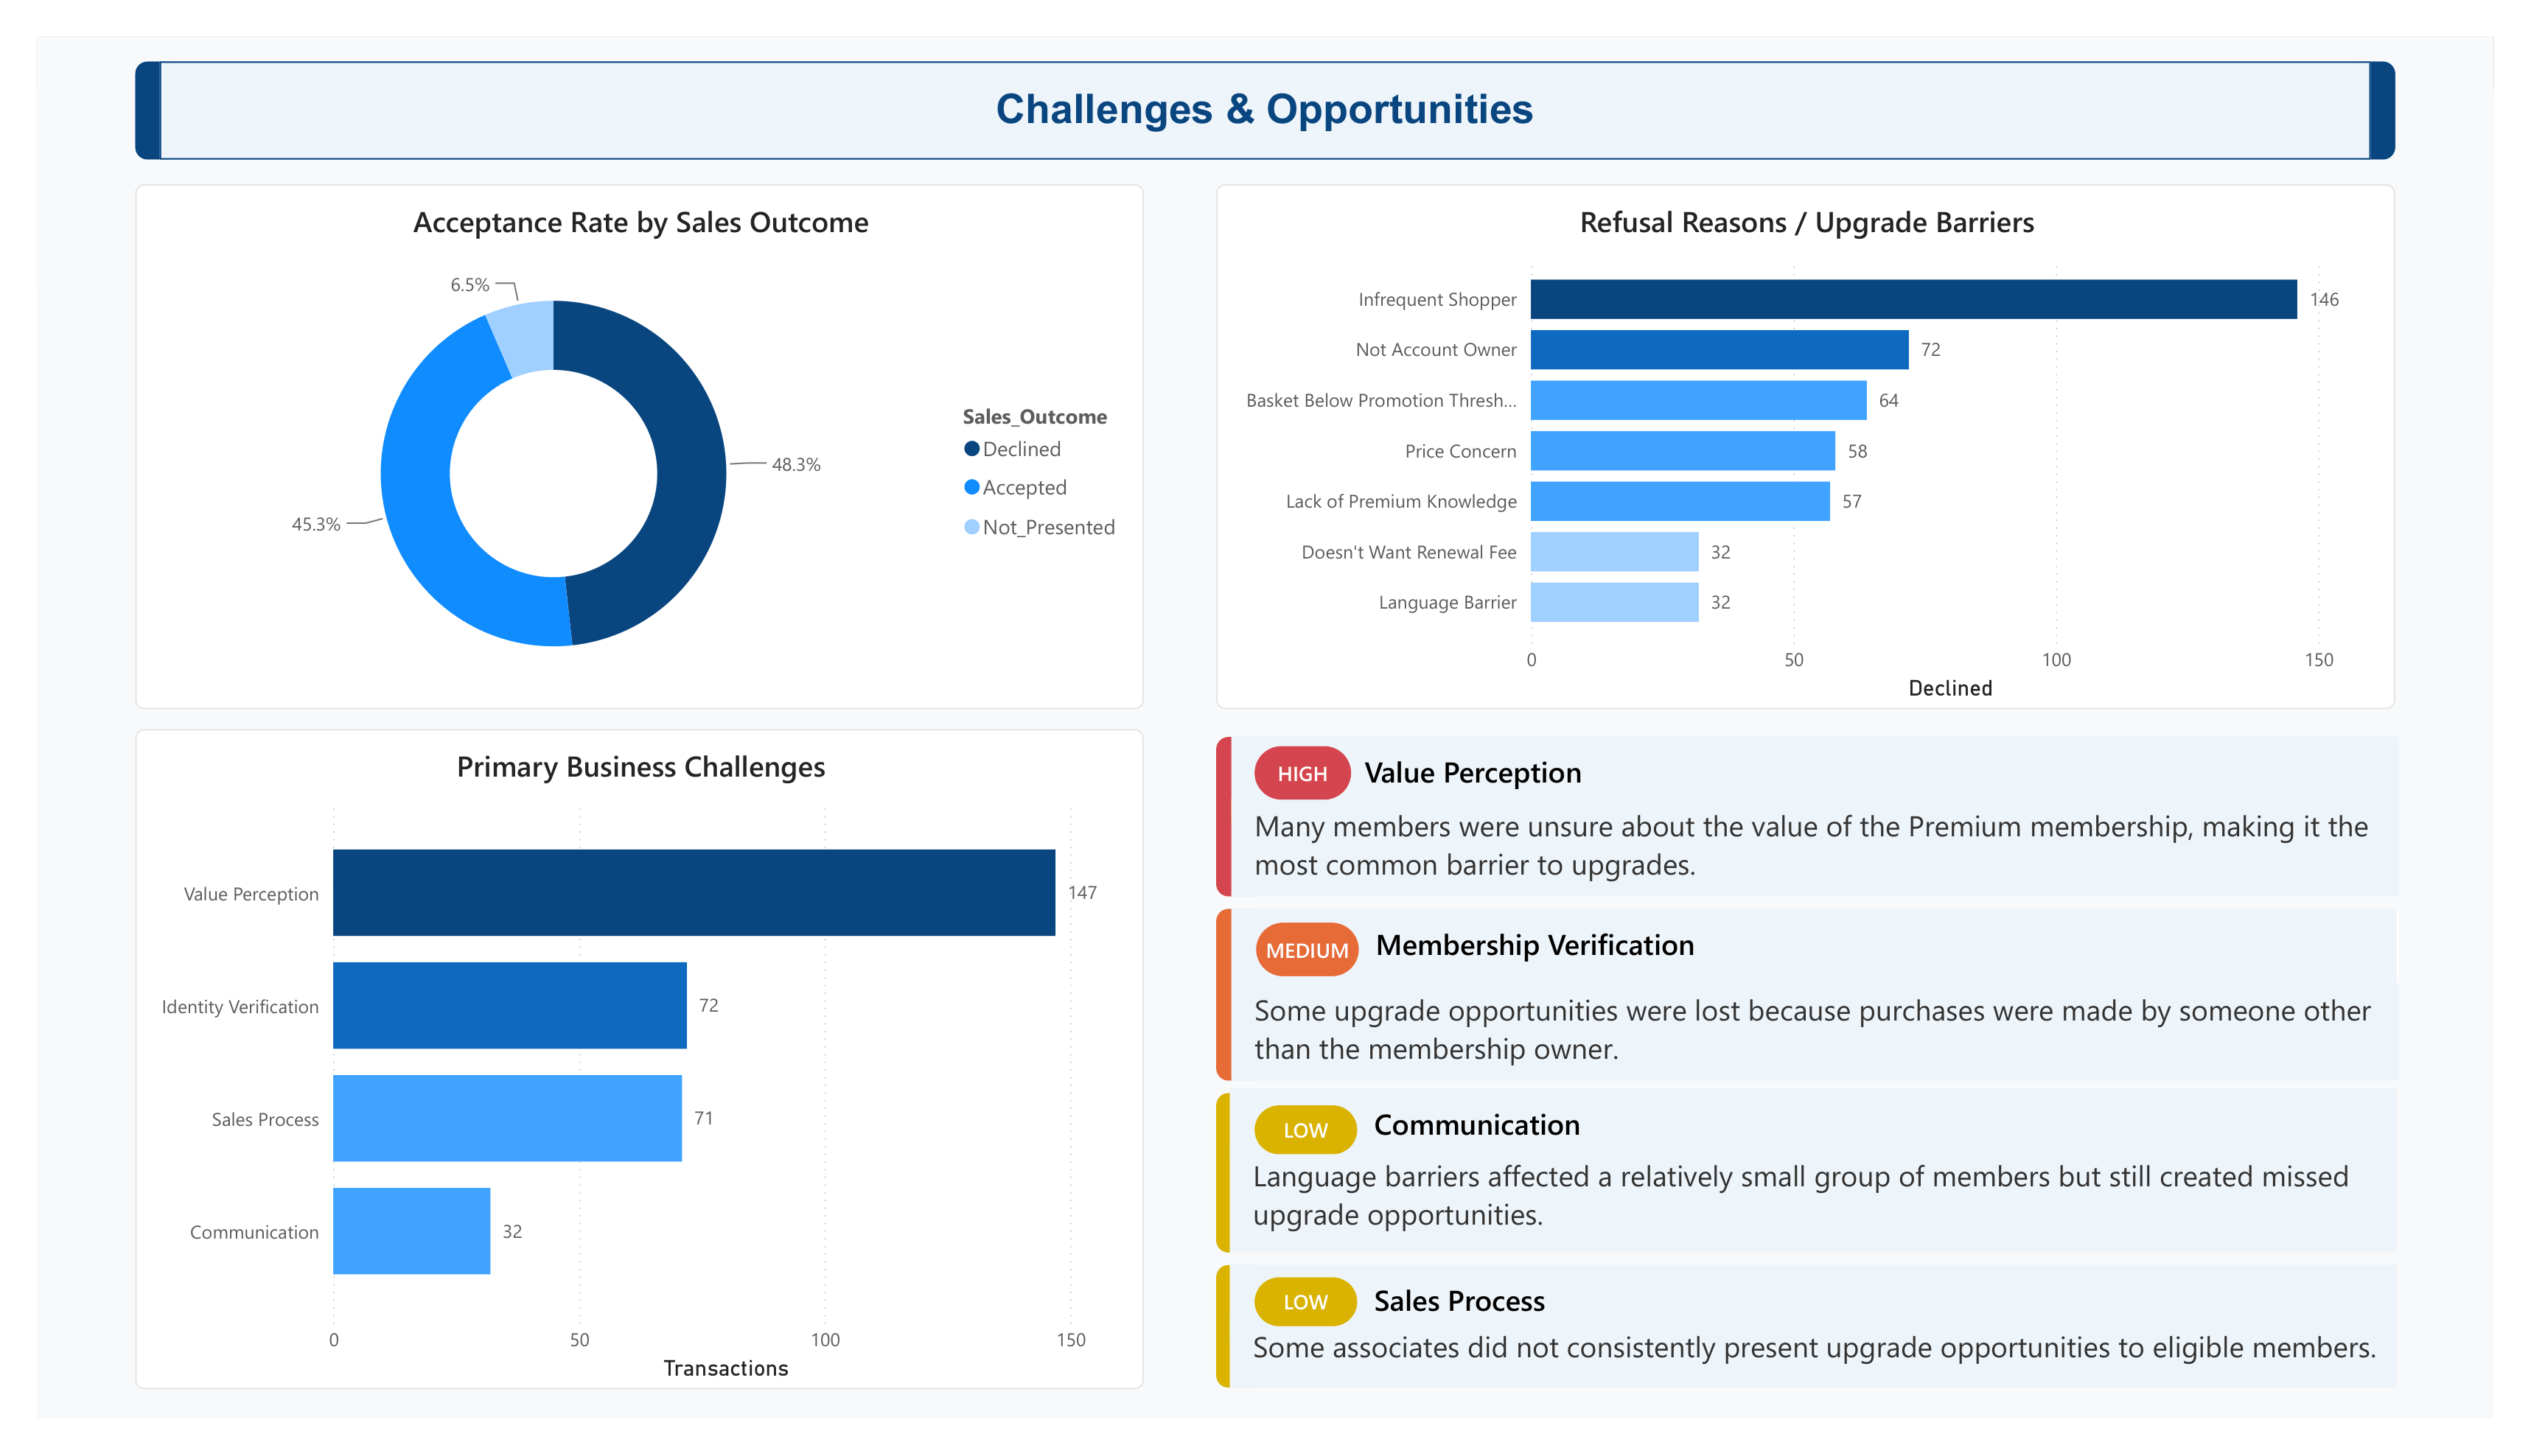

Layout of this report page (visuals, bound fields, positions):
{"tool":"powerbi","page":{"name":"Challenges & Opportunities","canvas":[1600,900],"ordinal":1},"visuals":[{"type":"shape","box":[64,16,32,64],"z":0},{"type":"shape","box":[768,456,32,104],"z":0,"group":"g1"},{"type":"shape","box":[768,568,32,112],"z":0,"group":"g2"},{"type":"shape","box":[768,688,32,104],"z":0,"group":"g5"},{"type":"shape","box":[768,800,32,80],"z":0,"group":"g8"},{"type":"shape","box":[1504,16,32,64],"z":1000},{"type":"textbox","box":[80,16,1440,64],"z":2000},{"type":"donutChart","title":"Acceptance Rate by Sales Outcome","fields":{"Category":["Transaction.Sales_Outcome"],"Y":["Measure_Table.Transactions"]},"box":[64,96,656.6,341.8],"z":3000},{"type":"textbox","box":[778,456,760,56],"z":3000,"group":"g3"},{"type":"textbox","box":[778.1,568,758.9,48.4],"z":3000,"group":"g4"},{"type":"textbox","box":[777,685.1,760,42.5],"z":3000,"group":"g6"},{"type":"textbox","box":[777.1,800,760,48],"z":3000,"group":"g7"},{"type":"textbox","box":[778,496,760,64],"z":3500,"group":"g3"},{"type":"textbox","box":[778.1,616,760,64],"z":3500,"group":"g4"},{"type":"textbox","box":[777,723.6,760,68.6],"z":3500,"group":"g6"},{"type":"textbox","box":[777,834.5,760,45.5],"z":3500,"group":"g7"},{"type":"clusteredBarChart","title":"Refusal Reasons / Upgrade Barriers","fields":{"Category":["Transaction.Refusal_Reason"],"Y":["Measure_Table.Declined"]},"box":[768,96,768,341.8],"z":4000},{"type":"clusteredBarChart","title":"Primary Business Challenges","fields":{"Category":["Transaction.Challenge Category"],"Y":["Measure_Table.Transactions"]},"box":[64,450.6,656.6,430.1],"z":5000},{"type":"shape","box":[793.3,462.4,62.5,34.4],"z":5000,"group":"g3"},{"type":"shape","box":[793.6,576.6,67.2,35.6],"z":5000,"group":"g4"},{"type":"shape","box":[792.7,695.7,67.2,32.1],"z":5000,"group":"g6"},{"type":"shape","box":[792.6,807.7,67.2,32.1],"z":5000,"group":"g7"},{"type":"group","id":"g1","title":"value perception","box":[768,456,770,104],"z":7000},{"type":"group","id":"g2","title":"membership verification","box":[768,568,770.1,112],"z":8000},{"type":"group","id":"g3","title":"Group 1","box":[778,456,760,104],"z":9000,"group":"g1"},{"type":"group","id":"g4","title":"Group 1","box":[778.1,568,760,112],"z":9000,"group":"g2"},{"type":"group","id":"g5","title":"membership verification","box":[768,685.1,769,107.1],"z":9000},{"type":"group","id":"g6","title":"Group 1","box":[777,685.1,760,107.1],"z":9000,"group":"g5"},{"type":"group","id":"g7","title":"Group 1","box":[777,800,760.1,80],"z":9000,"group":"g8"},{"type":"group","id":"g8","title":"membership verification","box":[768,800,769.1,80],"z":10000}]}

Visuals, with their boxes on the page's 1600x900 design canvas (x1, y1, x2, y2). These are canvas units, not pixel positions in the 2531x1456 screenshot, which may show the page scaled, cropped or inside an application window:
shape: 64 16 96 80
shape: 768 456 800 560
shape: 768 568 800 680
shape: 768 688 800 792
shape: 768 800 800 880
shape: 1504 16 1536 80
textbox: 80 16 1520 80
"Acceptance Rate by Sales Outcome" donutChart: 64 96 721 438
textbox: 778 456 1538 512
textbox: 778 568 1537 616
textbox: 777 685 1537 728
textbox: 777 800 1537 848
textbox: 778 496 1538 560
textbox: 778 616 1538 680
textbox: 777 724 1537 792
textbox: 777 834 1537 880
"Refusal Reasons / Upgrade Barriers" clusteredBarChart: 768 96 1536 438
"Primary Business Challenges" clusteredBarChart: 64 451 721 881
shape: 793 462 856 497
shape: 794 577 861 612
shape: 793 696 860 728
shape: 793 808 860 840
"value perception" group: 768 456 1538 560
"membership verification" group: 768 568 1538 680
"Group 1" group: 778 456 1538 560
"Group 1" group: 778 568 1538 680
"membership verification" group: 768 685 1537 792
"Group 1" group: 777 685 1537 792
"Group 1" group: 777 800 1537 880
"membership verification" group: 768 800 1537 880
